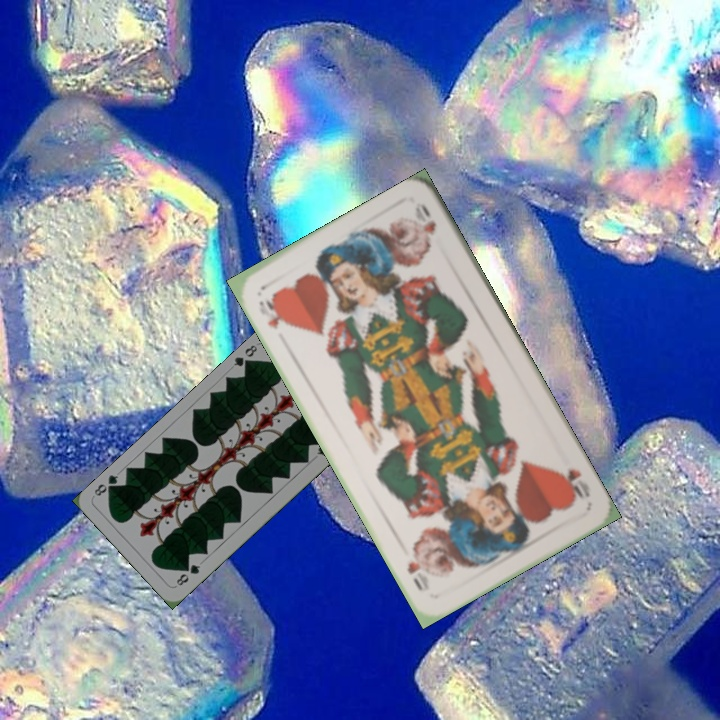G8: (229, 341, 260, 372), (172, 560, 203, 588)
HO: (556, 465, 593, 503), (255, 294, 290, 332)
